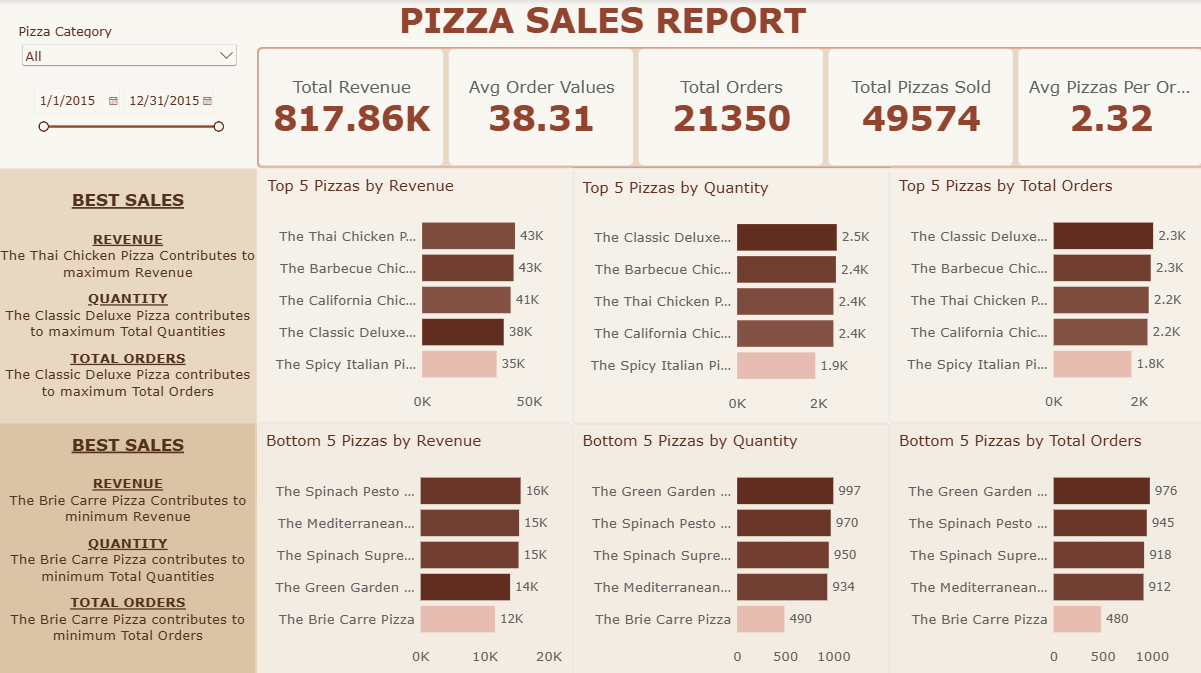

The page's visual inventory and layout, read from the dashboard file:
{"tool":"powerbi","page":{"name":"Best/Worst Sales","canvas":[1920,1080],"ordinal":1},"visuals":[{"type":"cardVisual","fields":{"Data":["pizza_sales.Total Revenue","pizza_sales.Avg Order Values","pizza_sales.Total Orders","pizza_sales.Total Pizzas Sold","pizza_sales.Avg Pizzas Per Order"]},"box":[410,77.5,1510,192.5],"z":0},{"type":"textbox","box":[0,0,1920,76.7],"z":1000},{"type":"slicer","title":"Pizza Category","fields":{"Values":["pizza_sales.pizza_category"]},"box":[30,37.5,352.5,77.5],"z":2000},{"type":"slicer","title":"Pizza Category","fields":{"Values":["pizza_sales.order_date"]},"box":[47.5,135,318,78],"z":3000},{"type":"textbox","box":[0,270,410,527.5],"z":4000},{"type":"textbox","box":[0,675,410,405],"z":5000},{"type":"barChart","title":"Top 5 Pizzas by Revenue","fields":{"Category":["pizza_sales.pizza_name"],"Y":["pizza_sales.Total Revenue"]},"box":[410,267.5,505,407.5],"z":6000},{"type":"barChart","title":"Bottom 5 Pizzas by Revenue","fields":{"Category":["pizza_sales.pizza_name"],"Y":["pizza_sales.Total Revenue"]},"box":[407.5,672.5,505,407.5],"z":7000},{"type":"barChart","title":"Top 5 Pizzas by Quantity","fields":{"Category":["pizza_sales.pizza_name"],"Y":["Sum(pizza_sales.quantity)"]},"box":[912.5,270,505,407.5],"z":8000},{"type":"barChart","title":"Top 5 Pizzas by Total Orders","fields":{"Category":["pizza_sales.pizza_name"],"Y":["pizza_sales.Total Orders"]},"box":[1415,267.5,505,407.5],"z":9000},{"type":"barChart","title":"Bottom 5 Pizzas by Quantity","fields":{"Category":["pizza_sales.pizza_name"],"Y":["Sum(pizza_sales.quantity)"]},"box":[912.5,672.5,505,407.5],"z":10000},{"type":"barChart","title":"Bottom 5 Pizzas by Total Orders","fields":{"Category":["pizza_sales.pizza_name"],"Y":["pizza_sales.Total Orders"]},"box":[1415,672.5,505,407.5],"z":11000}]}

Visuals, with their boxes in screenshot pixels (x1, y1, x2, y2), scaled from the page's 1920x1080 canvas onto the 1201x673 screenshot:
cardVisual - pizza_sales.Total Revenue x pizza_sales.Avg Order Values: Rect(256, 48, 1200, 168)
textbox: Rect(0, 0, 1200, 48)
"Pizza Category" slicer: Rect(19, 23, 239, 72)
"Pizza Category" slicer: Rect(30, 84, 229, 133)
textbox: Rect(0, 168, 256, 497)
textbox: Rect(0, 421, 256, 672)
"Top 5 Pizzas by Revenue" barChart: Rect(256, 167, 572, 421)
"Bottom 5 Pizzas by Revenue" barChart: Rect(255, 419, 571, 672)
"Top 5 Pizzas by Quantity" barChart: Rect(571, 168, 887, 422)
"Top 5 Pizzas by Total Orders" barChart: Rect(885, 167, 1200, 421)
"Bottom 5 Pizzas by Quantity" barChart: Rect(571, 419, 887, 672)
"Bottom 5 Pizzas by Total Orders" barChart: Rect(885, 419, 1200, 672)
